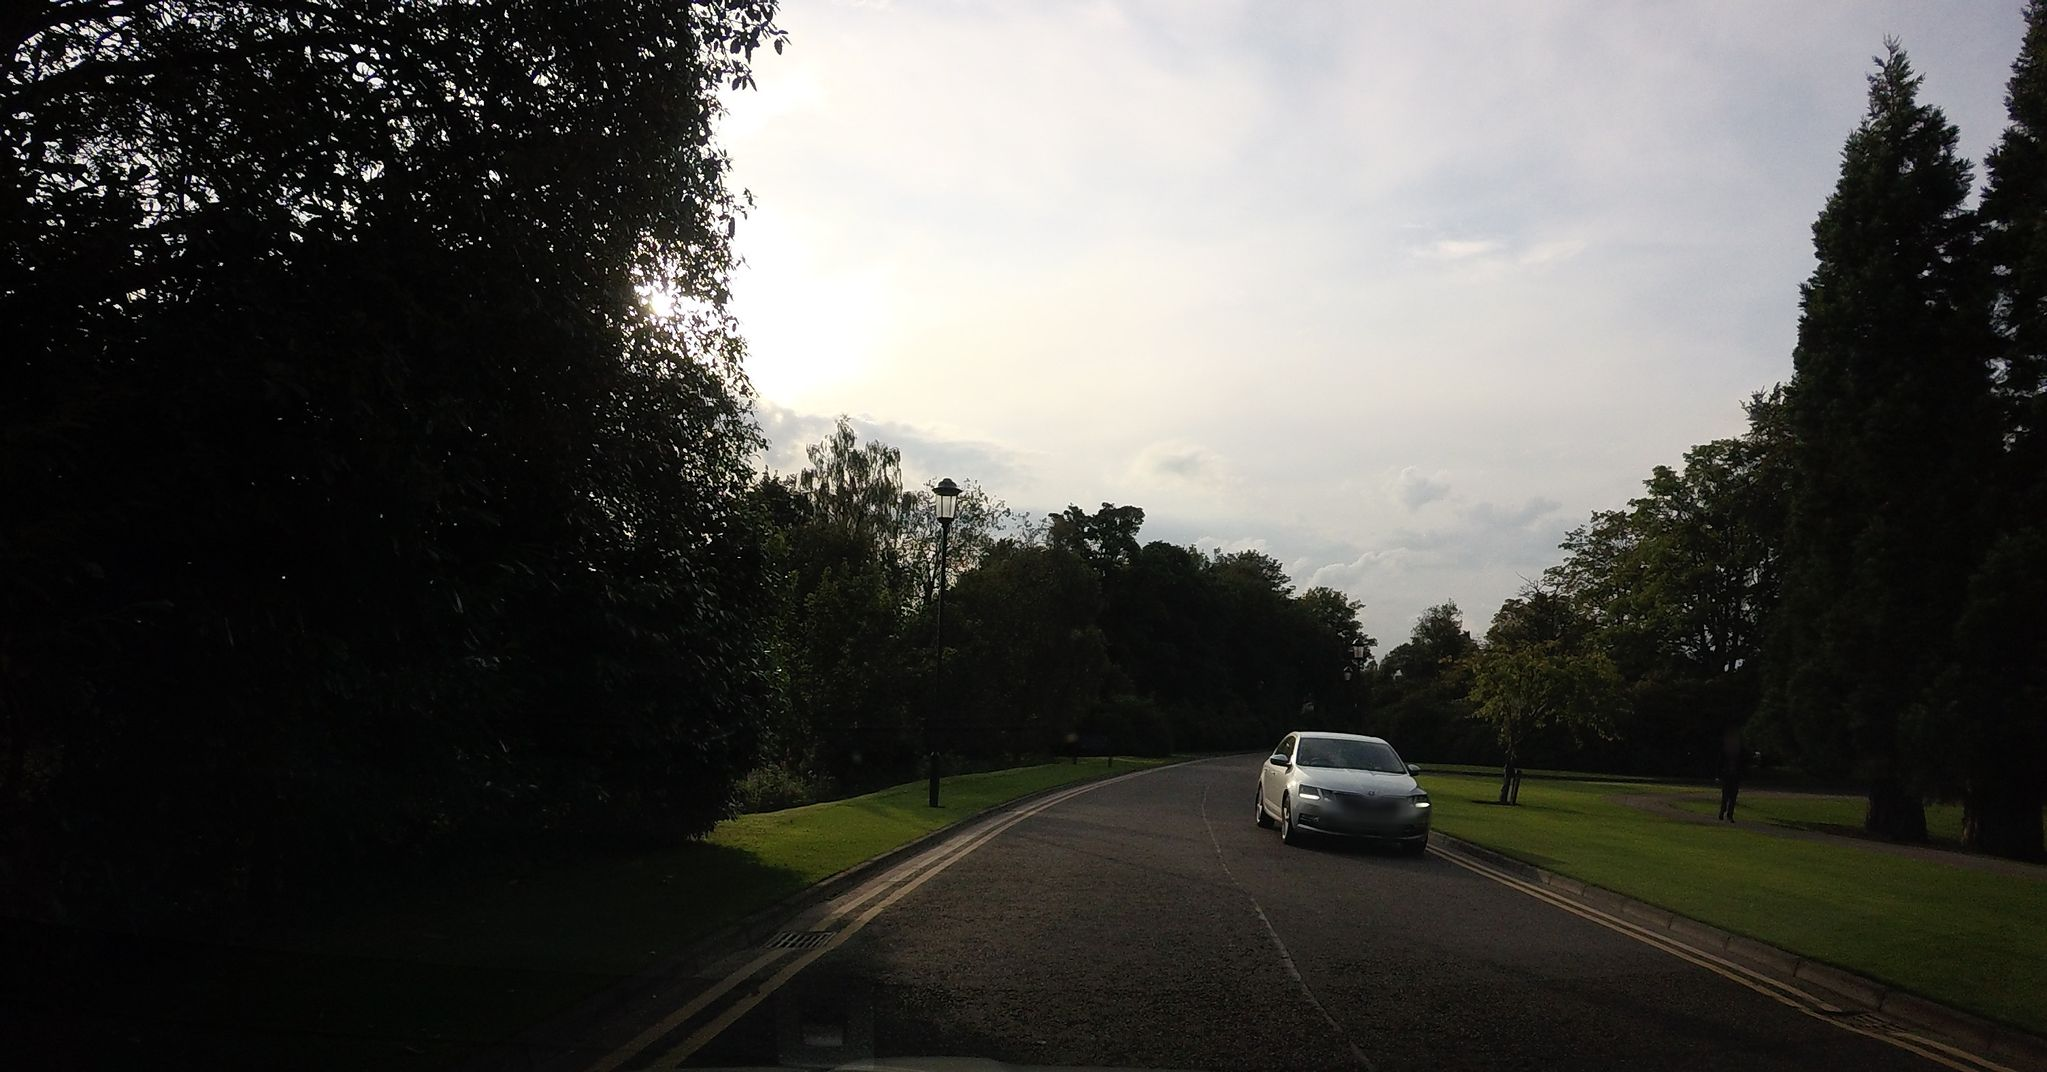car: (1254, 731, 1431, 853)
